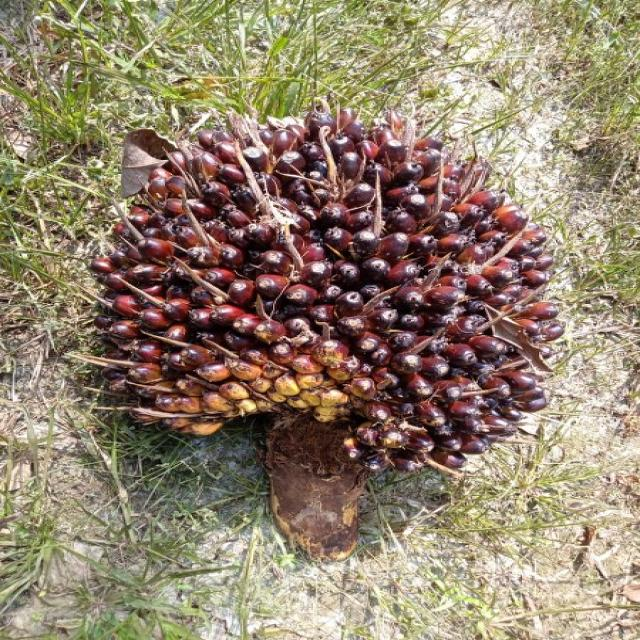fraksi 00: (73, 109, 567, 488)
